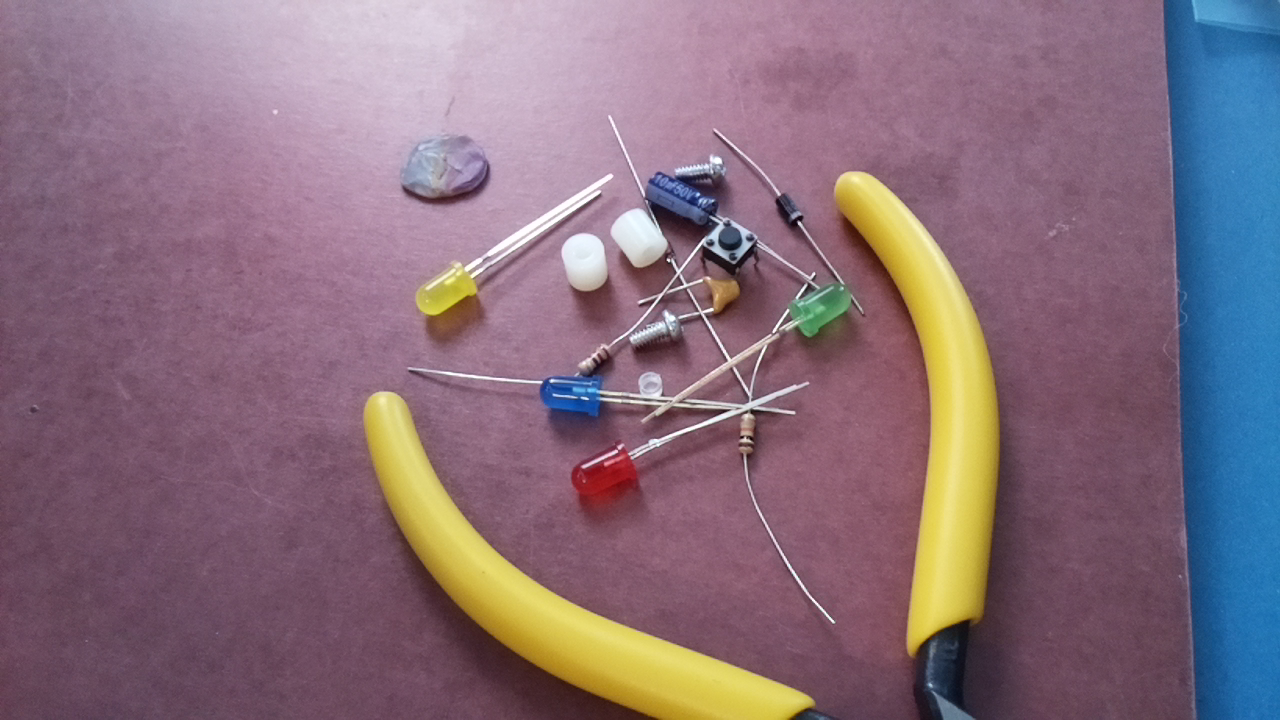button: (699, 213, 763, 278)
capacitor: (642, 171, 719, 239), (695, 274, 747, 320)
diode: (771, 186, 809, 234), (655, 231, 677, 266)
led: (409, 254, 485, 322), (568, 438, 643, 503), (783, 281, 859, 343), (537, 372, 609, 423)
resistor: (574, 339, 613, 381), (736, 407, 759, 461)
